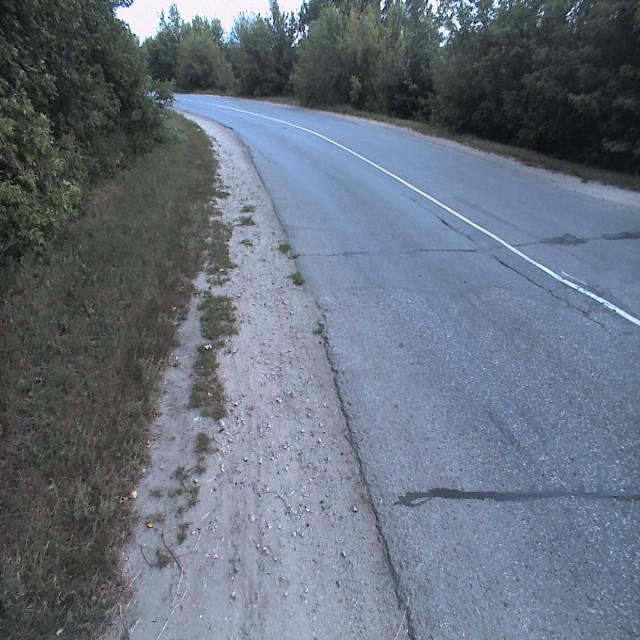road: (173, 92, 639, 639)
